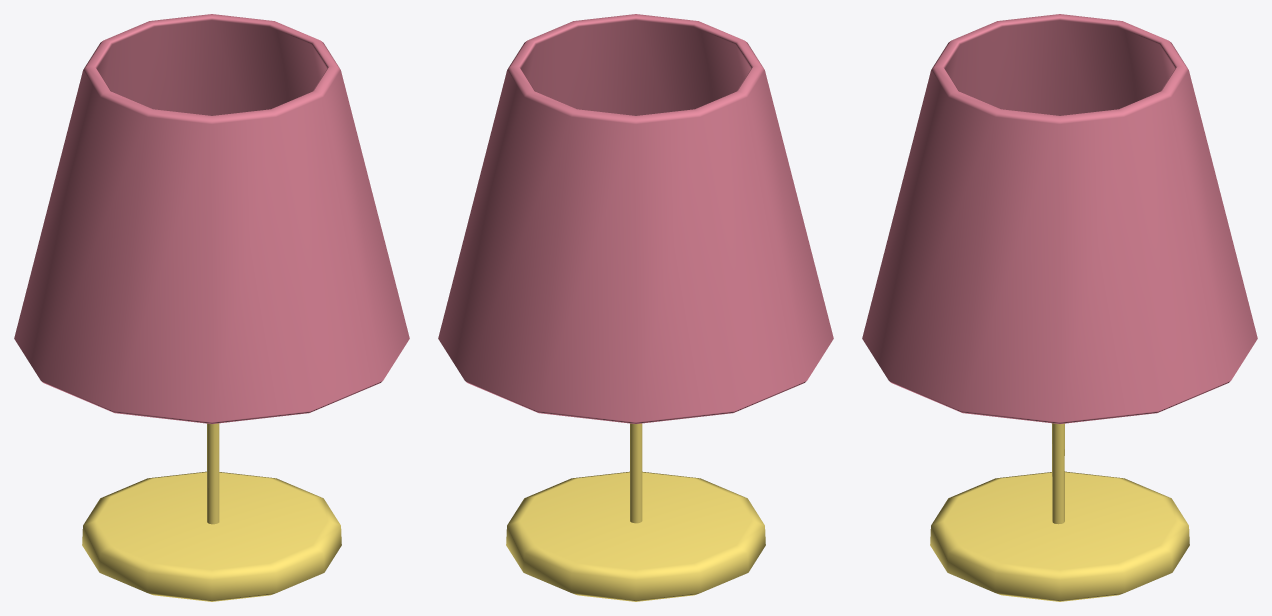
Rendered from Lamp_11.glb.
3 views of the same model, side by side, from view 1: azimuth 30°, elevation 25°; view 2: azimuth 150°, elevation 25°; view 3: azimuth 270°, elevation 25° (orthographic).
Parts seen in each view (by area): view 1: Lamp_11; view 2: Lamp_11; view 3: Lamp_11.
Part boxes in pixels (box(x1,y1,x2,y2)): Lamp_11: box(14, 14, 409, 601); Lamp_11: box(438, 14, 833, 601); Lamp_11: box(862, 14, 1257, 601).
Size of the model in its own units: 0.4432 by 0.6008 by 0.4432.
2 materials, 1 textured.
